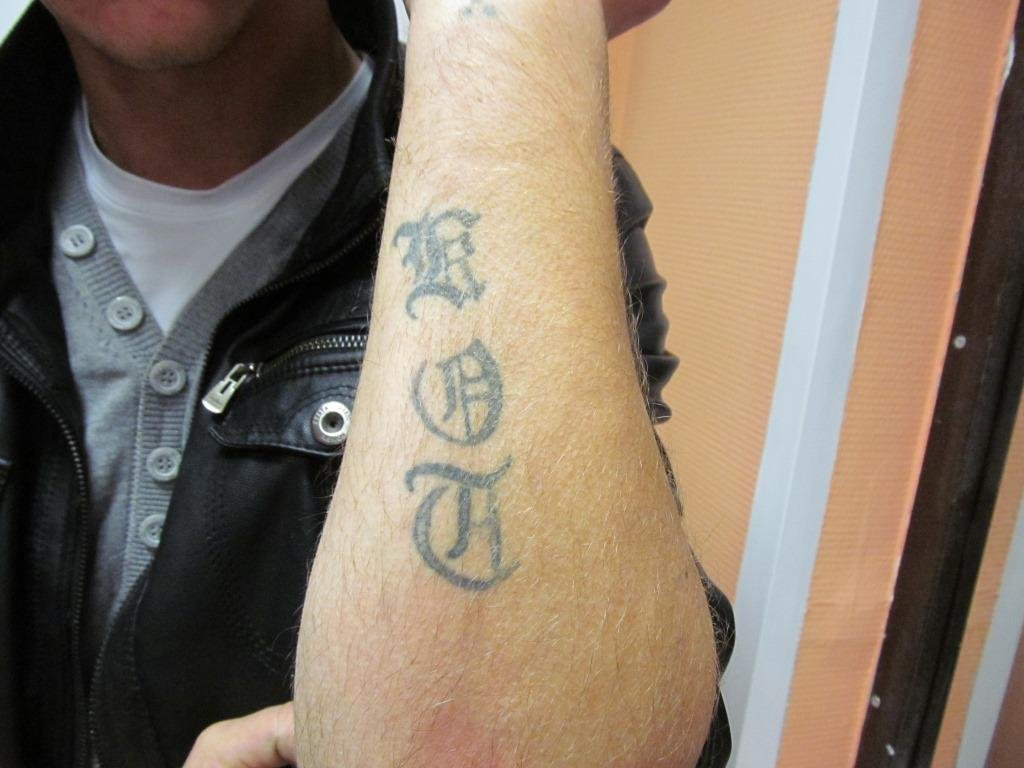tatu3_bukva: (383, 189, 549, 602)
